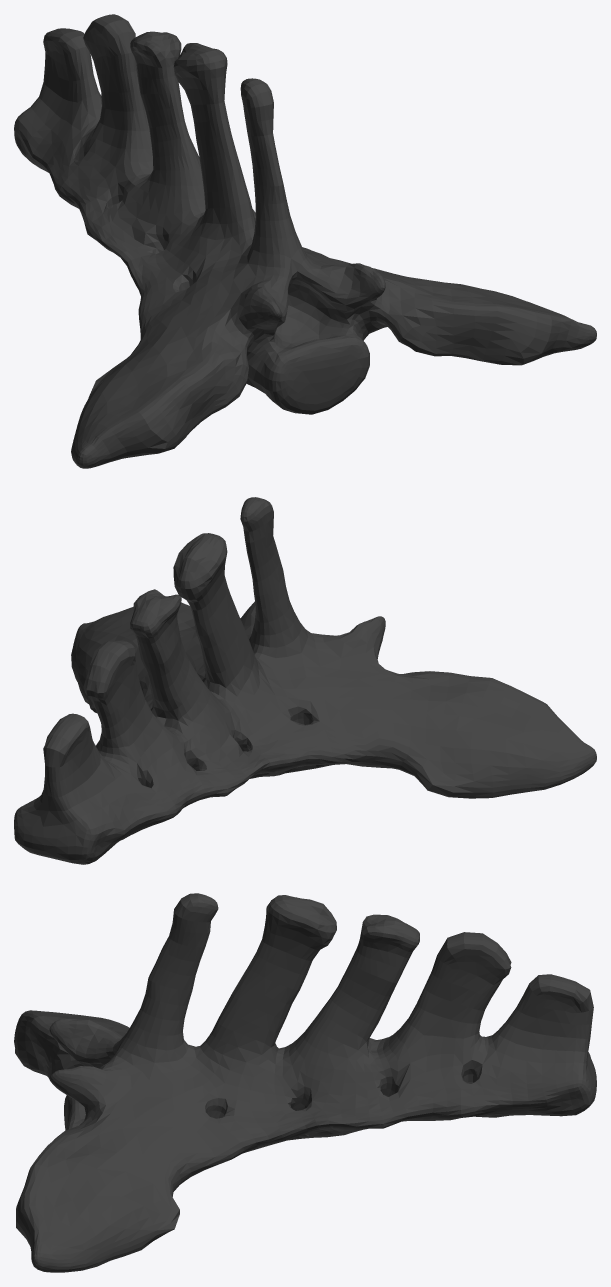
Rendered from Sacrum.glb.
3 renders of one model, top to bottom at view 1: azimuth 30°, elevation 25°; view 2: azimuth 150°, elevation 25°; view 3: azimuth 270°, elevation 25°, orthographic. The views are drawn at different scales.
Visible parts, largest first — view 1: Sacrum; view 2: Sacrum; view 3: Sacrum.
Boxes of the visible parts, x1,y1,x2,y2 form: Sacrum: [14, 14, 596, 468]; Sacrum: [14, 497, 596, 864]; Sacrum: [14, 893, 596, 1272].
Size of the model in its own units: 0.3286 by 0.1741 by 0.3321.
Materials: 1 (1 with a texture image).
